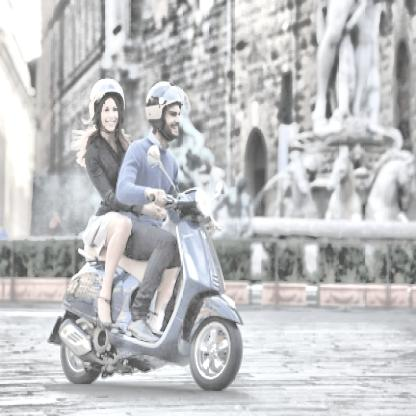not_wear: (148, 81, 183, 145), (90, 79, 123, 134)
